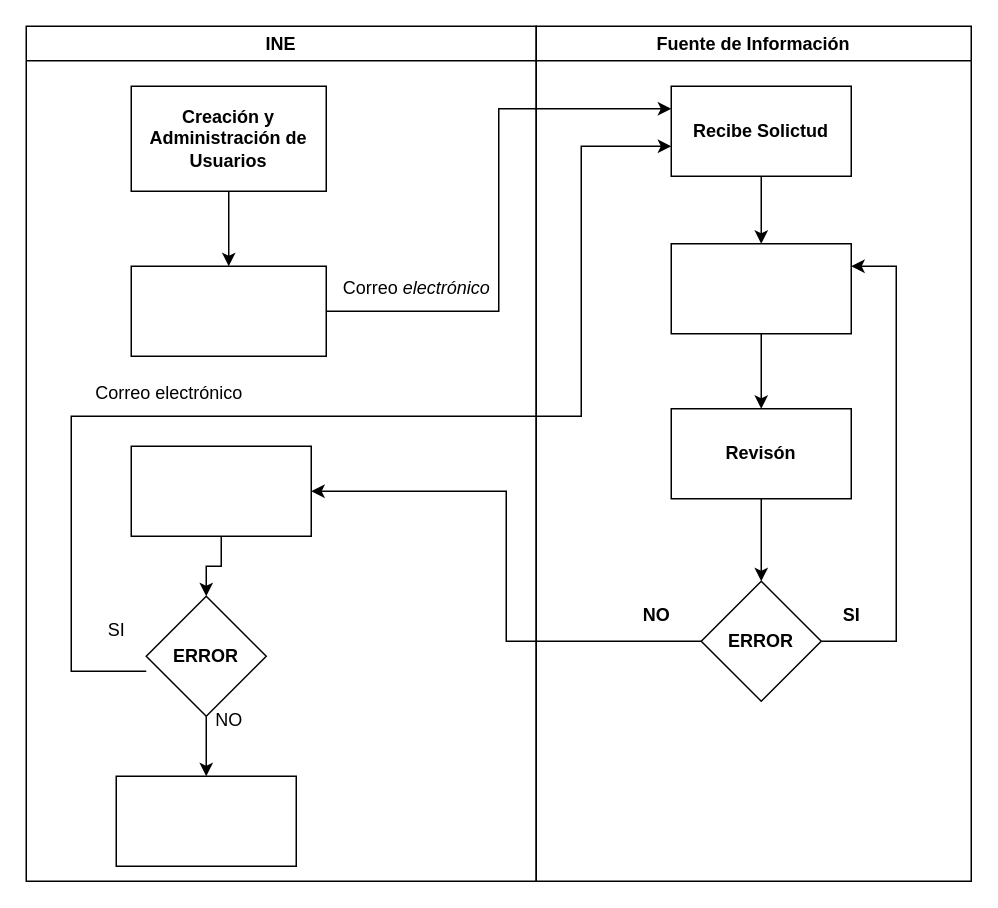
Some shapes in this 998 by 908 pixel diagram are drawn without their labels. Here are the shapes that lost their labels. From the top down, the centre of each, then its label:
At [760,288]: "Carga de datos".
At [228,310]: "Aviso de solicitud".
At [220,490]: "Recibe Información INE".
At [205,820]: "Proceso Terminado".
